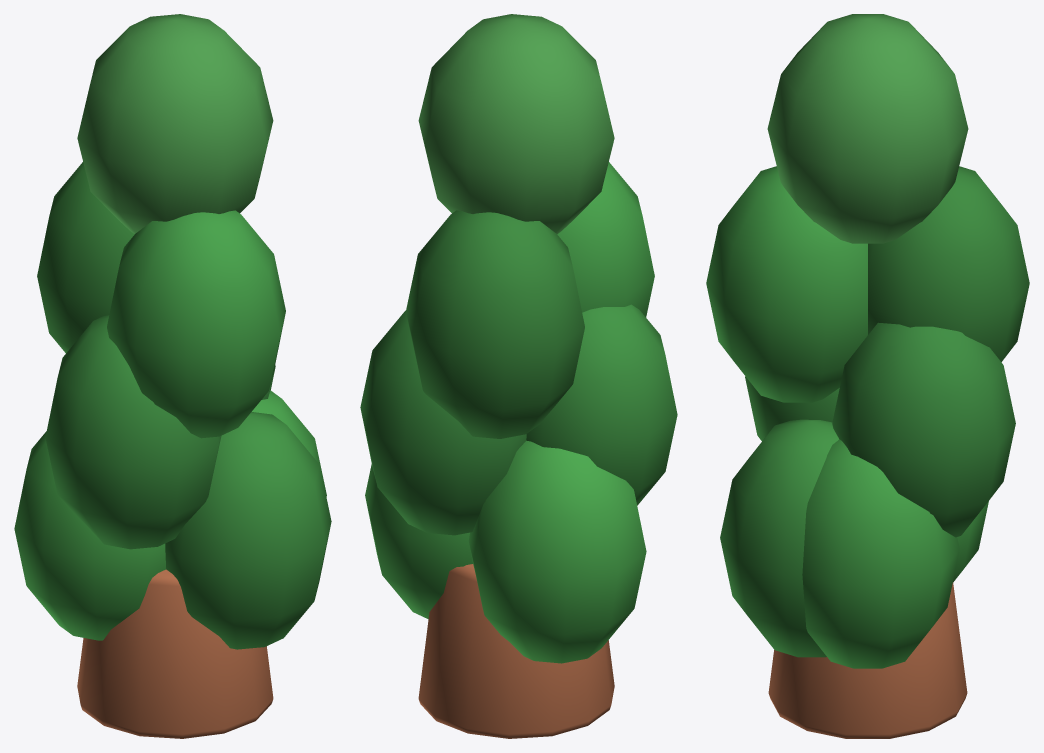
Rendered from f_plant_tall.glb.
3 renders of one model, left to right at view 1: azimuth 30°, elevation 25°; view 2: azimuth 150°, elevation 25°; view 3: azimuth 270°, elevation 25°, orthographic.
Parts seen in each view (by area): view 1: f_plant_tall; view 2: f_plant_tall; view 3: f_plant_tall.
Boxes of the visible parts, x1,y1,x2,y2 form: f_plant_tall: [14, 14, 331, 738]; f_plant_tall: [360, 14, 677, 738]; f_plant_tall: [706, 14, 1029, 738].
Bounding box in the file's own units: 1.08 × 2.62 × 1.13.
